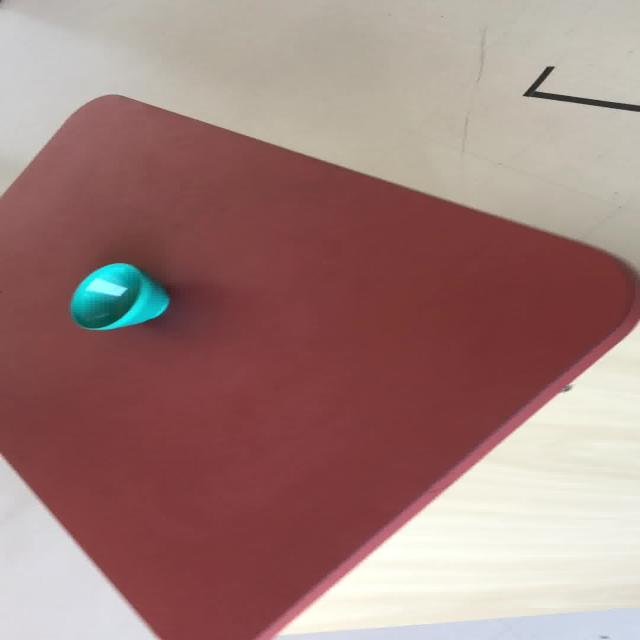bowl: (1, 92, 637, 638), (68, 262, 170, 331)
